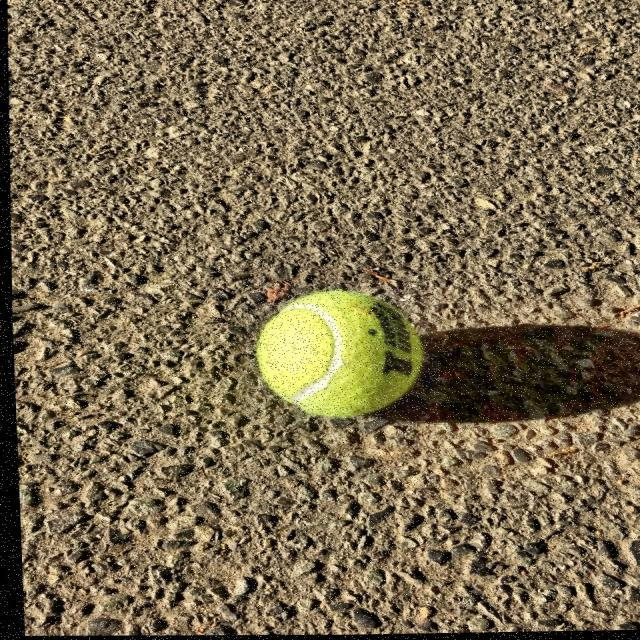tennis-ball: (238, 283, 441, 432)
